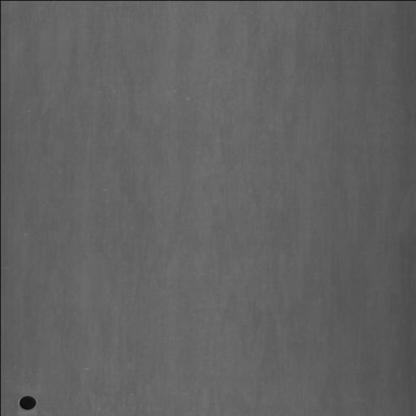punching_hole: (15, 388, 40, 416)
